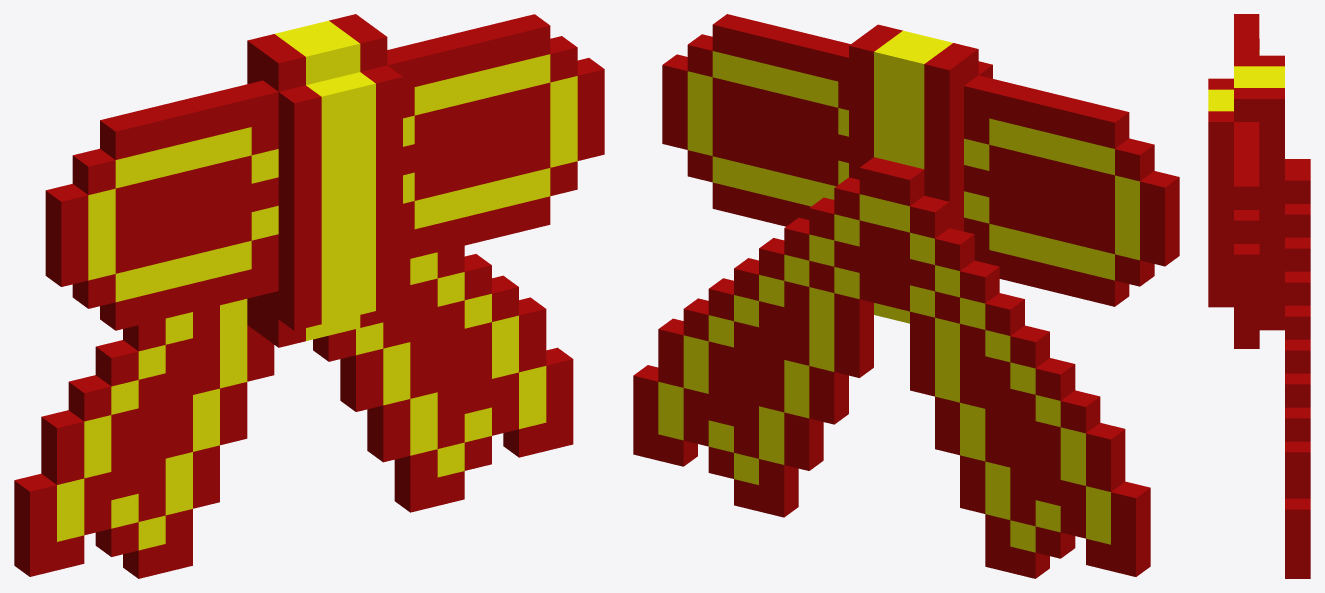
Rendered from ChristmasDecoration4.fbx.
3 renders of one model, left to right at view 1: azimuth 30°, elevation 25°; view 2: azimuth 150°, elevation 25°; view 3: azimuth 270°, elevation 25°, orthographic. The views are drawn at different scales.
Parts seen in each view (by area): view 1: ObjObject; view 2: ObjObject; view 3: ObjObject.
Part boxes in pixels (x1,y1,x2,y2): ObjObject: (14, 14, 604, 578); ObjObject: (633, 14, 1179, 578); ObjObject: (1208, 14, 1310, 578).
Bounding box in the file's own units: 31.13 × 28.01 × 6.23.
